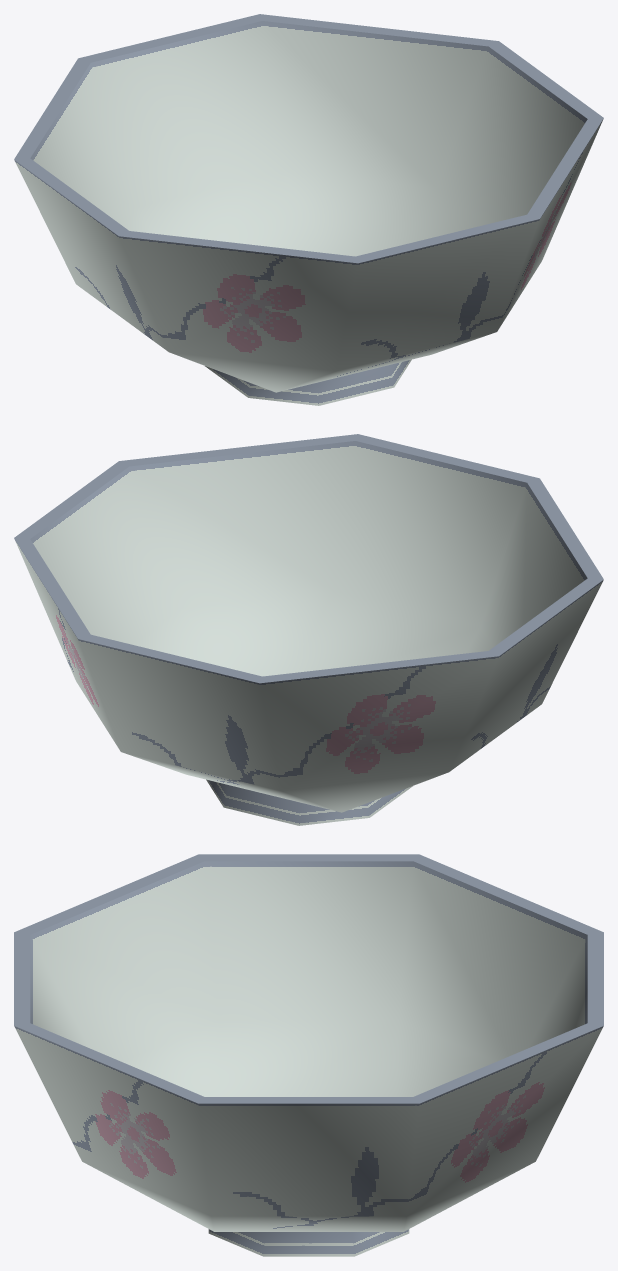
File: 0343_Mom_s_Rice_Bowl.glb
3 views of the same model, one above another, from view 1: azimuth 30°, elevation 25°; view 2: azimuth 150°, elevation 25°; view 3: azimuth 270°, elevation 25° (orthographic). The views are drawn at different scales.
Visible parts, largest first — view 1: part_0; view 2: part_0; view 3: part_0.
Part boxes in pixels (box(x1,y1,x2,y2)): part_0: box(14, 14, 603, 405); part_0: box(14, 434, 603, 825); part_0: box(14, 854, 603, 1256).
Bounding box in the file's own units: 0.1414 × 0.0621 × 0.1414.
1 material, 1 textured.
